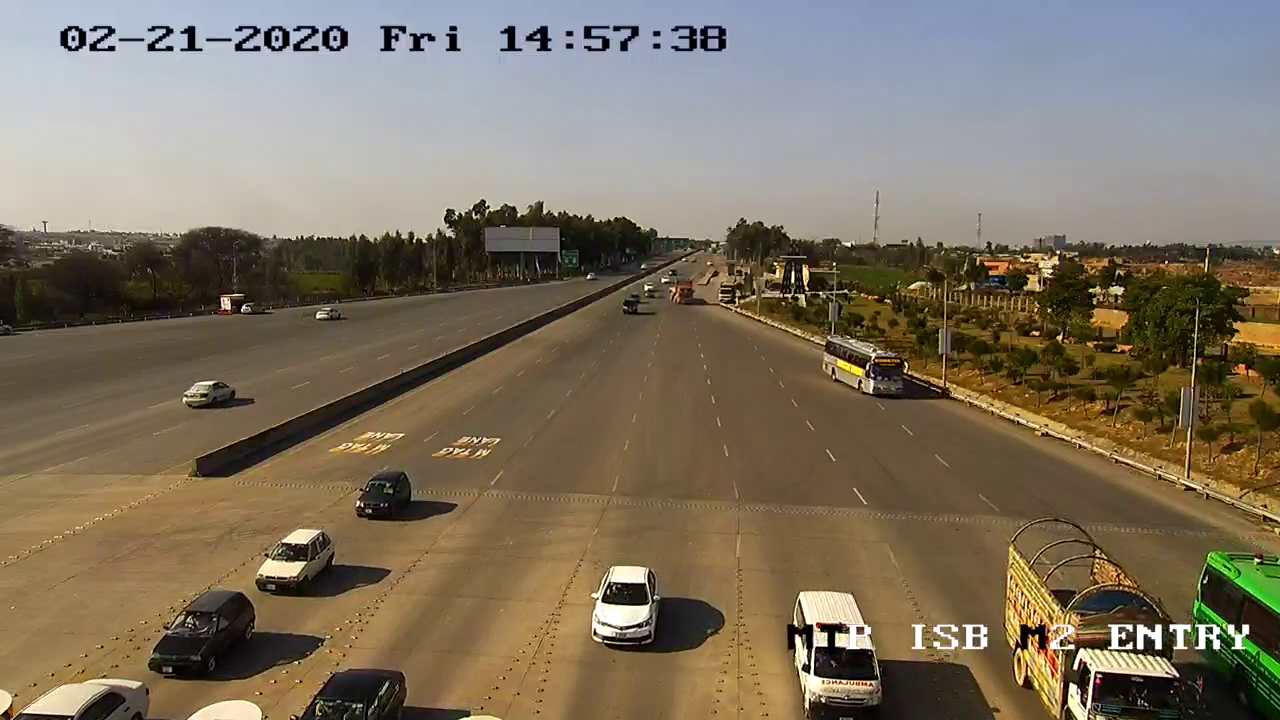f1: (131, 578, 260, 688), (579, 554, 671, 655), (249, 518, 343, 603), (349, 455, 417, 531)
f2: (772, 583, 900, 720)
f4: (811, 328, 910, 404)
